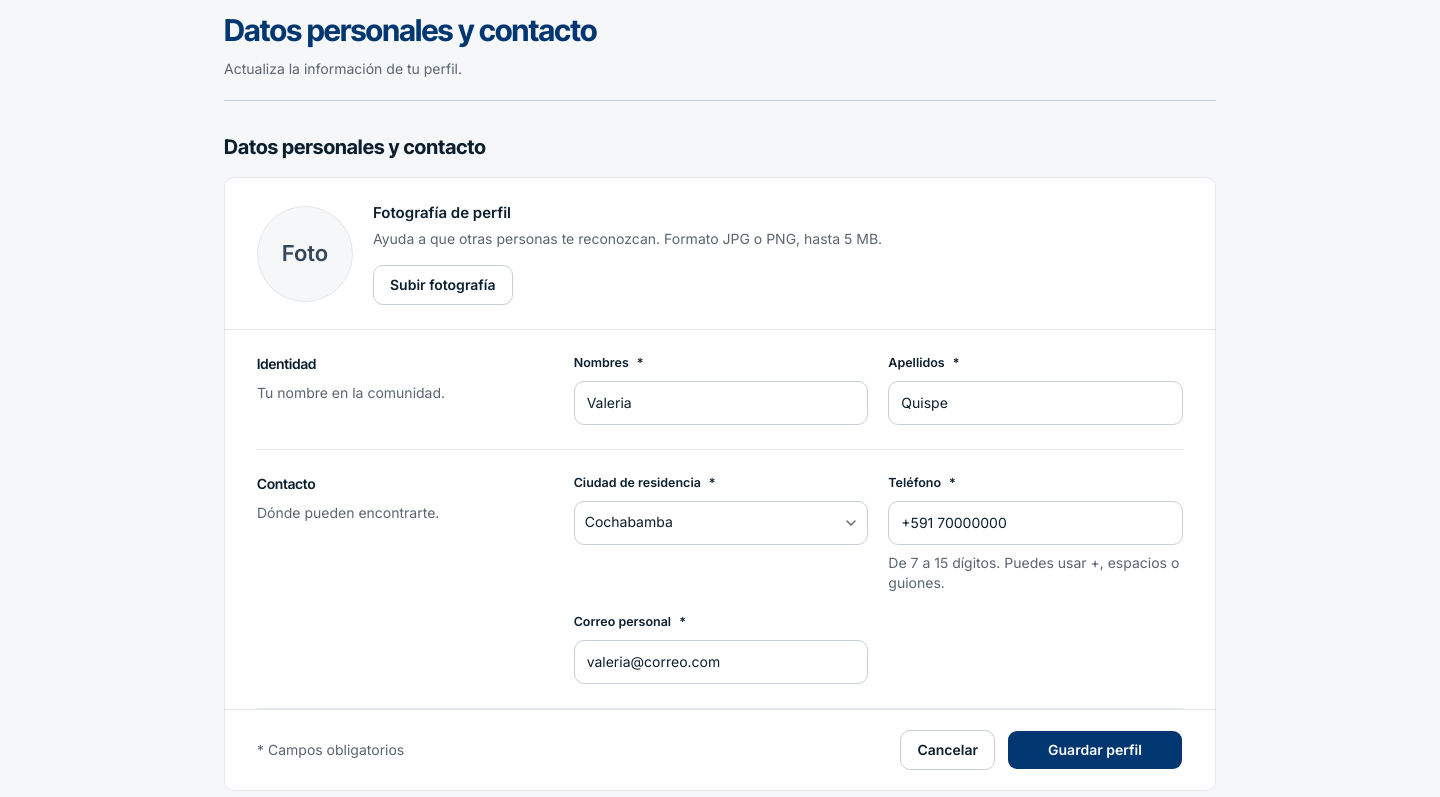
Test: PersonalInfoView › shows the server error when saving fails
Expected: the field labelled "Nombres *" is shown, [574,381,868,425]
Step 1. Click the button "Guardar perfil" → [1095, 750], box [1007,730,1183,770]
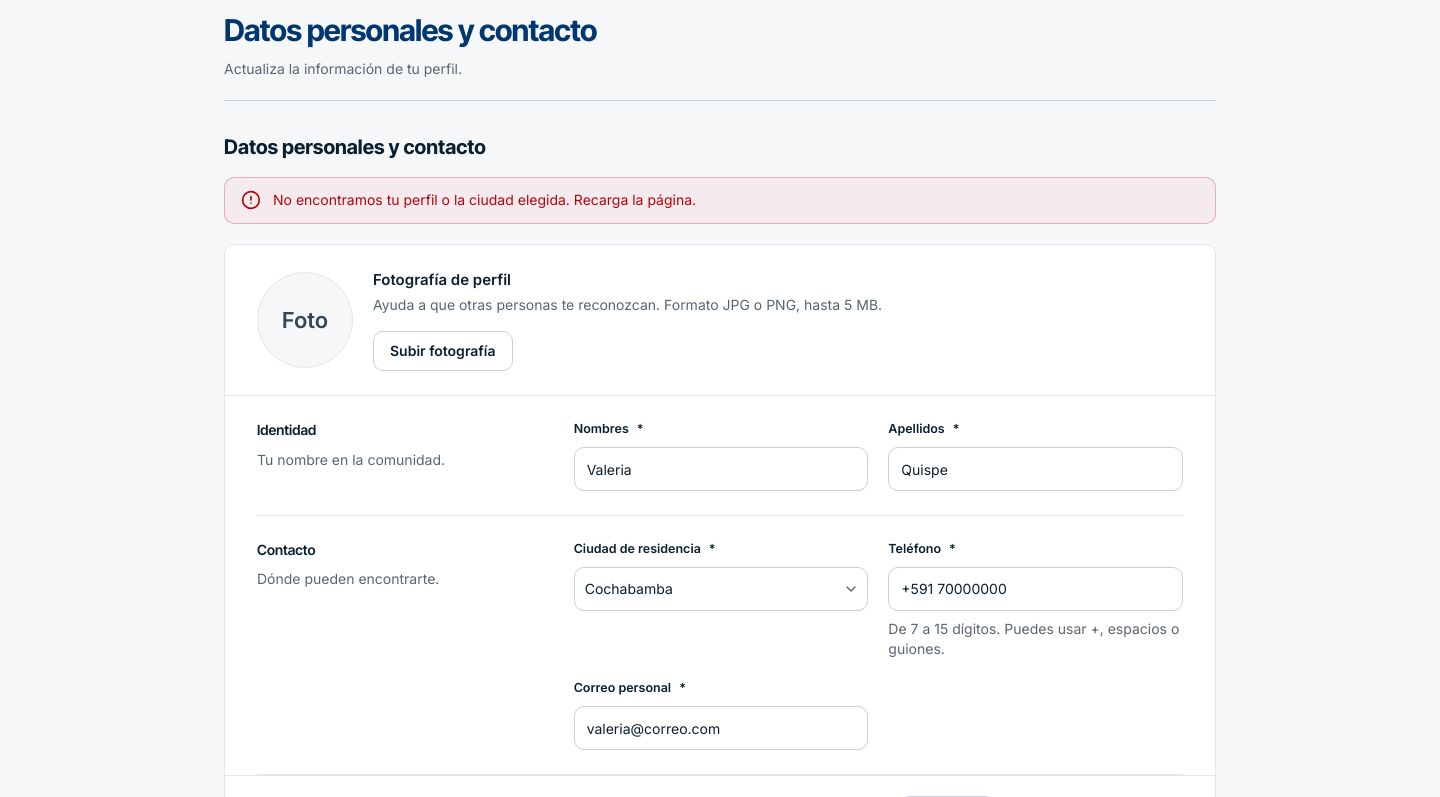
Result: the message reads "No encontramos tu perfil o la ciudad elegida. Recarga la página." at [273,191,696,208]
